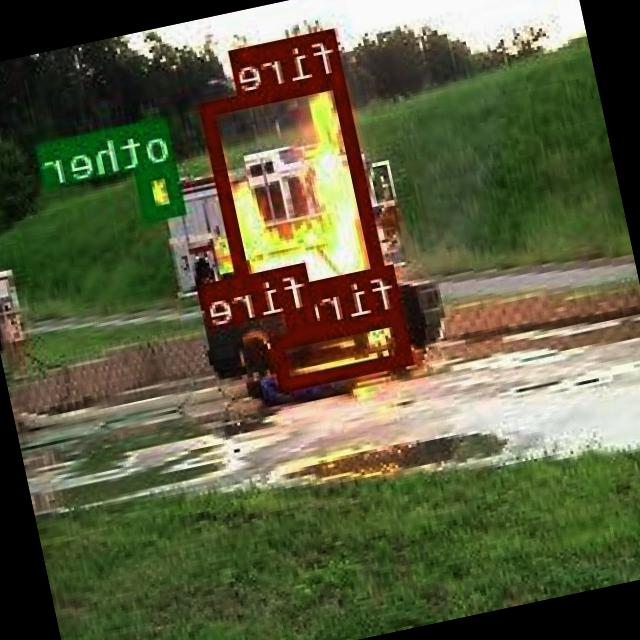fire: (202, 70, 388, 306), (272, 306, 414, 389), (287, 304, 319, 330)
